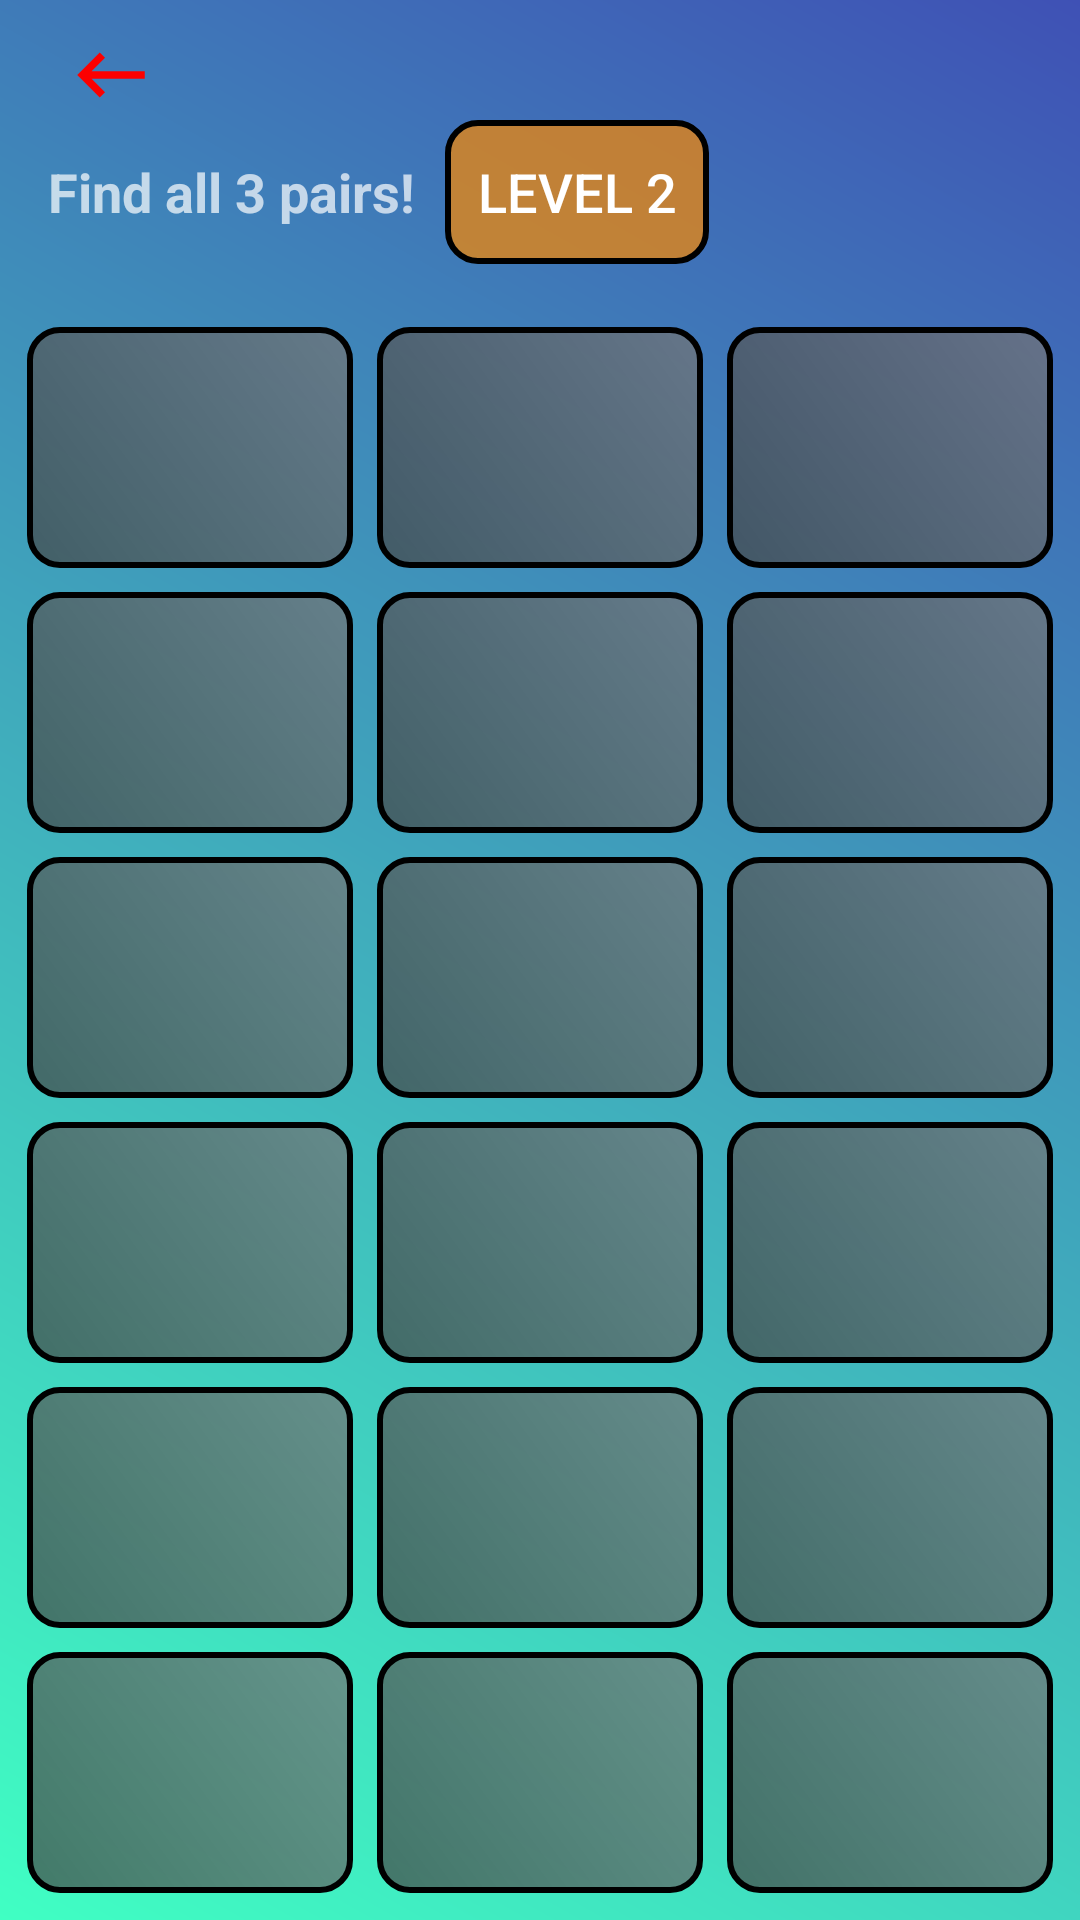

Screen size 1080 × 1920. Icon name, then its box in pixels as (left=x1, top=y1, right=x2, bottom=y2):
back: (left=77, top=52, right=145, bottom=98)
